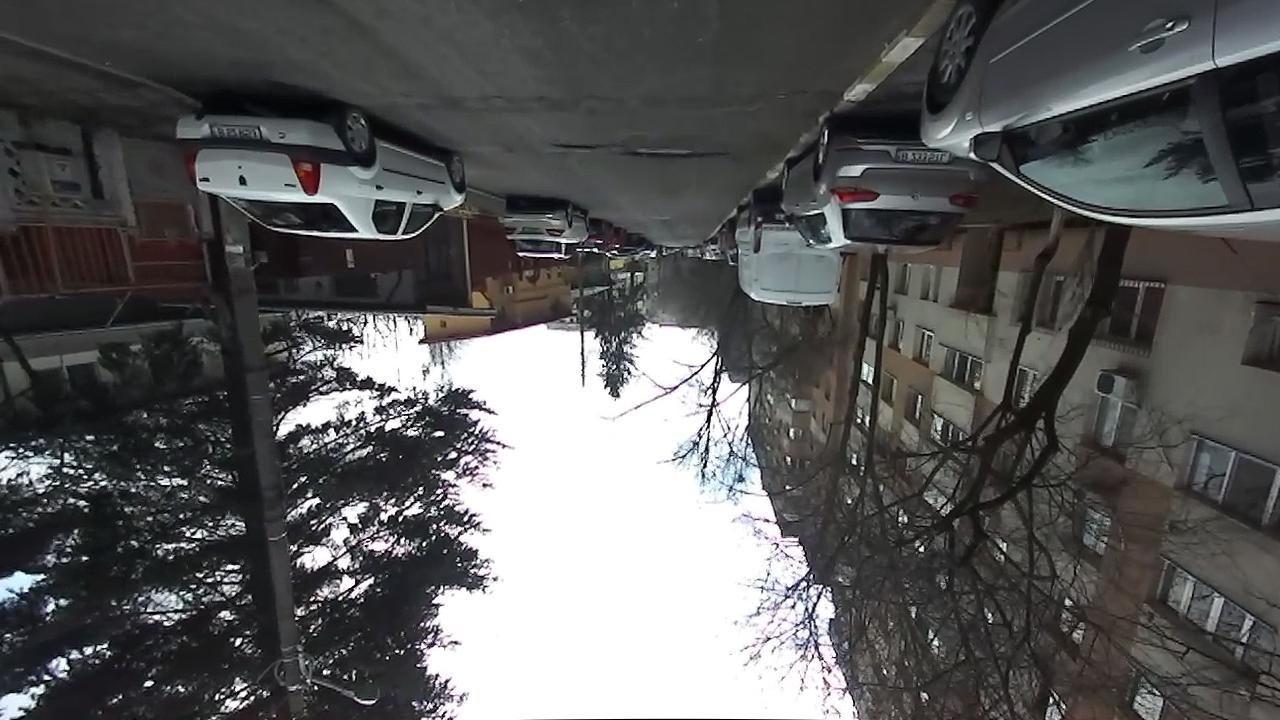pothole: (627, 141, 735, 162), (551, 139, 608, 152)
